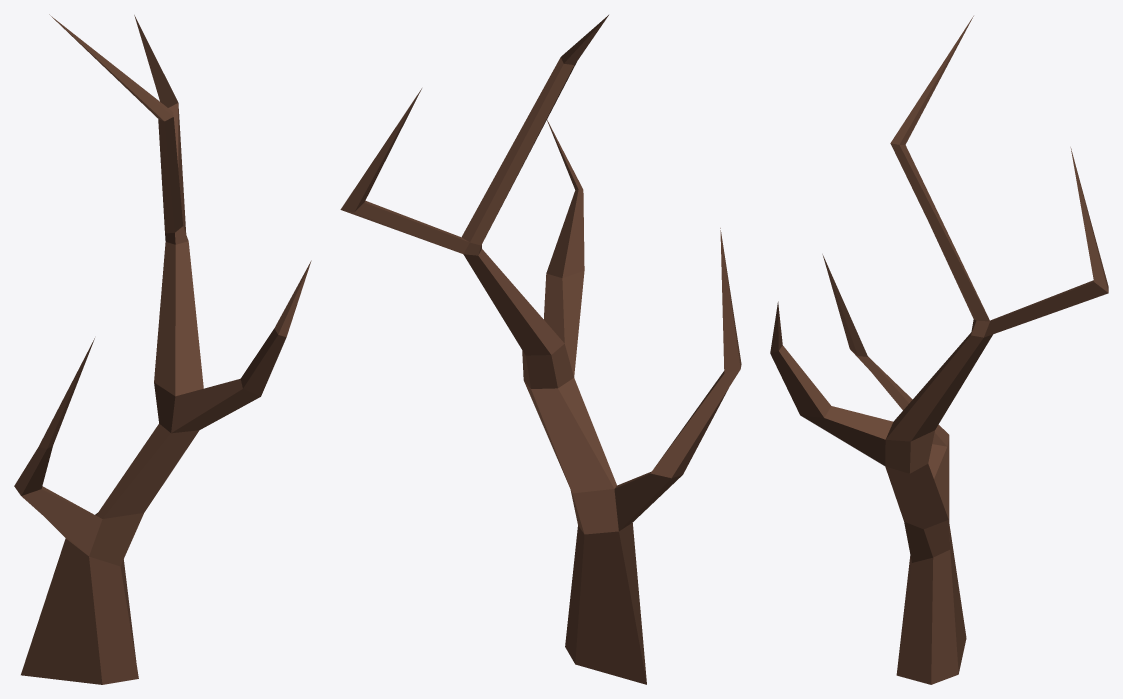
Rendered from TreeTrunk_27.fbx.
3 renders of one model, left to right at view 1: azimuth 30°, elevation 25°; view 2: azimuth 150°, elevation 25°; view 3: azimuth 270°, elevation 25°, orthographic. The views are drawn at different scales.
Visible parts, largest first — view 1: TreeTrunk_27; view 2: TreeTrunk_27; view 3: TreeTrunk_27.
Boxes of the visible parts, x1,y1,x2,y2 form: TreeTrunk_27: (14, 14, 311, 684); TreeTrunk_27: (340, 15, 741, 684); TreeTrunk_27: (770, 16, 1108, 684).
Bounding box in the file's own units: 106 × 251 × 120.
